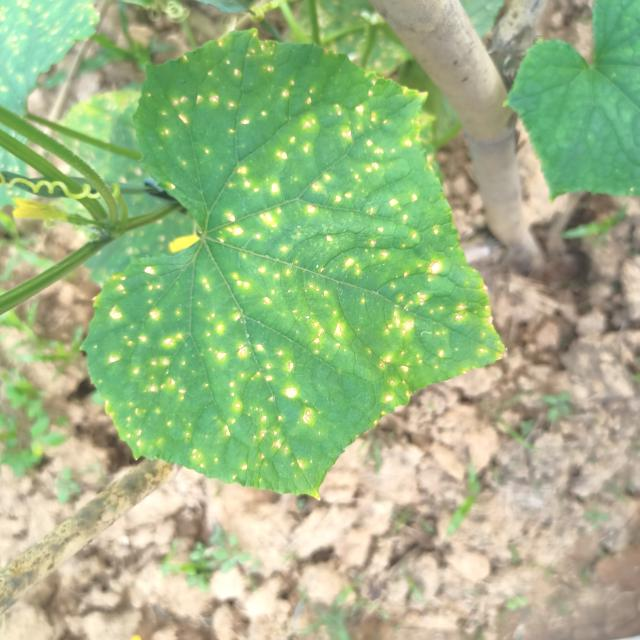disease_cucumber: (93, 45, 466, 472)
